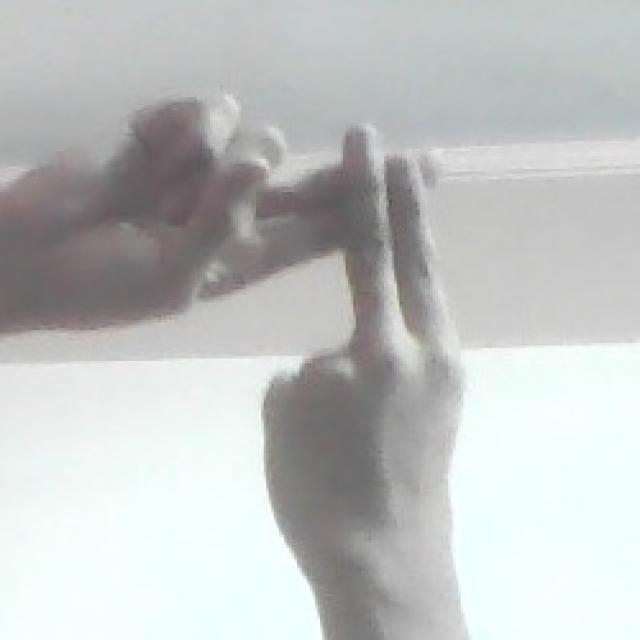Alphabet-F: (4, 87, 554, 451)
